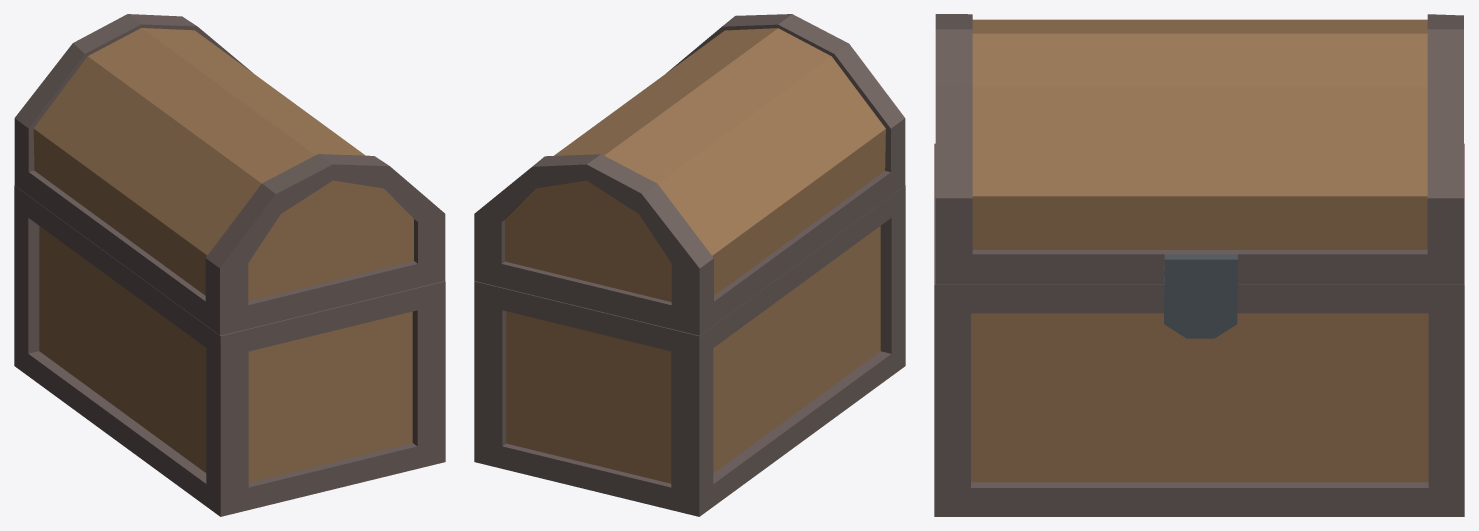
File: Chest-A01.fbx
3 renders of one model, left to right at view 1: azimuth 30°, elevation 25°; view 2: azimuth 150°, elevation 25°; view 3: azimuth 270°, elevation 25°, orthographic. The views are drawn at different scales.
Visible parts, largest first — view 1: Chest-A-top, Chest-A01; view 2: Chest-A-top, Chest-A01; view 3: Chest-A-top, Chest-A01.
Part boxes in pixels (box(x1,y1,x2,y2)): Chest-A-top: box(14, 14, 445, 335); Chest-A01: box(14, 185, 445, 516); Chest-A-top: box(474, 14, 905, 335); Chest-A01: box(474, 185, 905, 516); Chest-A-top: box(935, 14, 1463, 338); Chest-A01: box(934, 143, 1464, 516).
Size of the model in its own units: 65.82 by 87.36 by 101.
